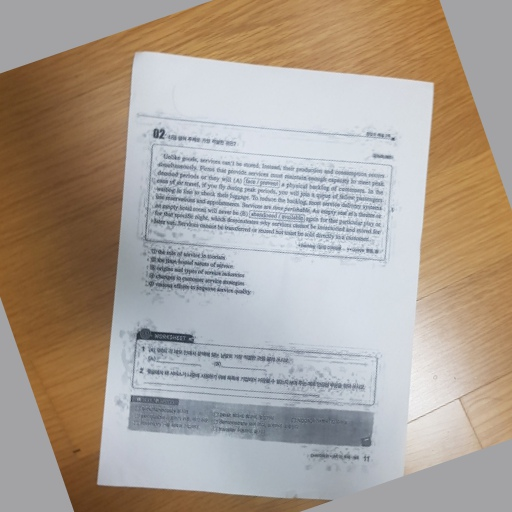Paper_2: (94, 43, 440, 509)
